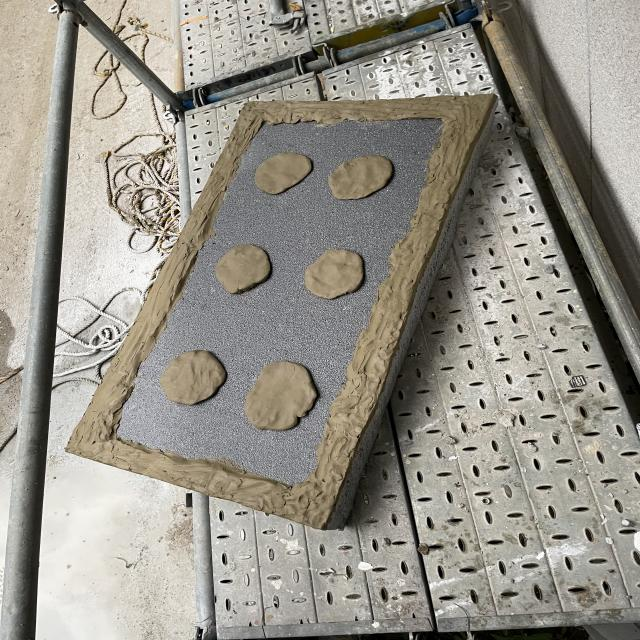dab: (245, 361, 317, 430), (159, 350, 226, 405), (328, 155, 393, 200), (305, 249, 363, 299), (215, 244, 270, 294), (255, 152, 311, 194)
insulation: (65, 93, 498, 531)
